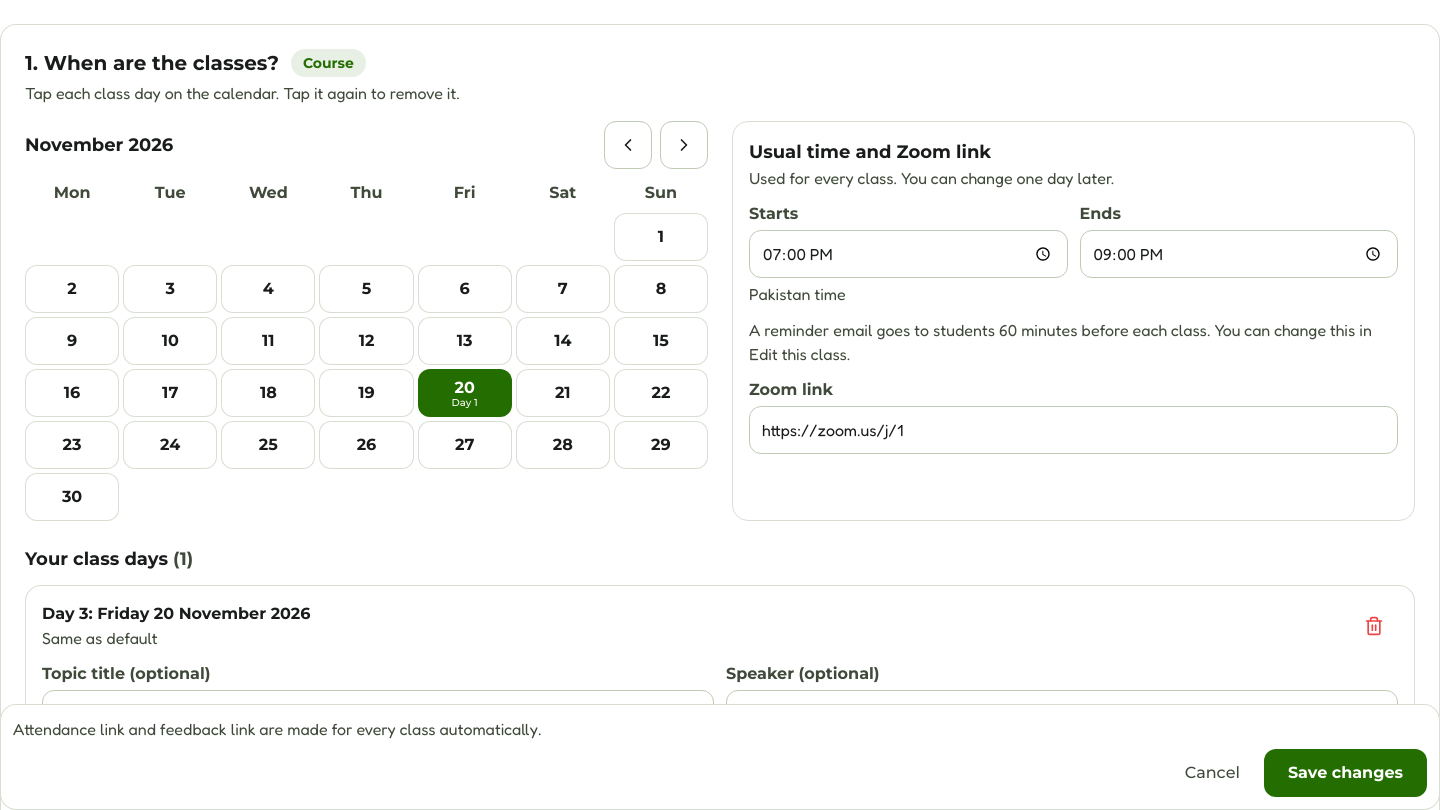
Test: SetupForm › labels existing days with their class number and unsaved days New
The image size is (1440, 810).
Click the button "9" at [72, 341], box left=25, top=317, right=119, bottom=365
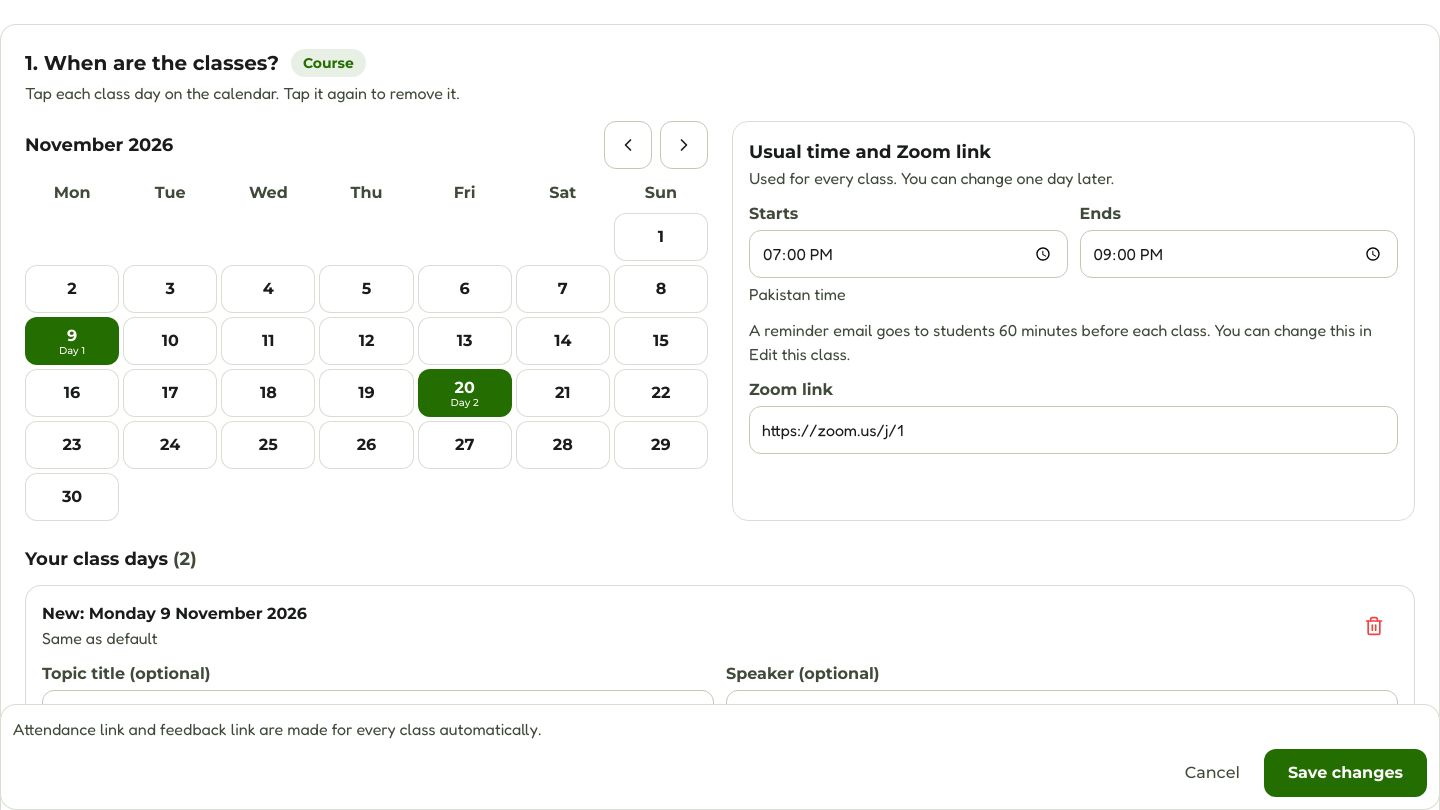
Now the text "New: Monday 9 November 2026" is shown, box left=42, top=602, right=307, bottom=626
